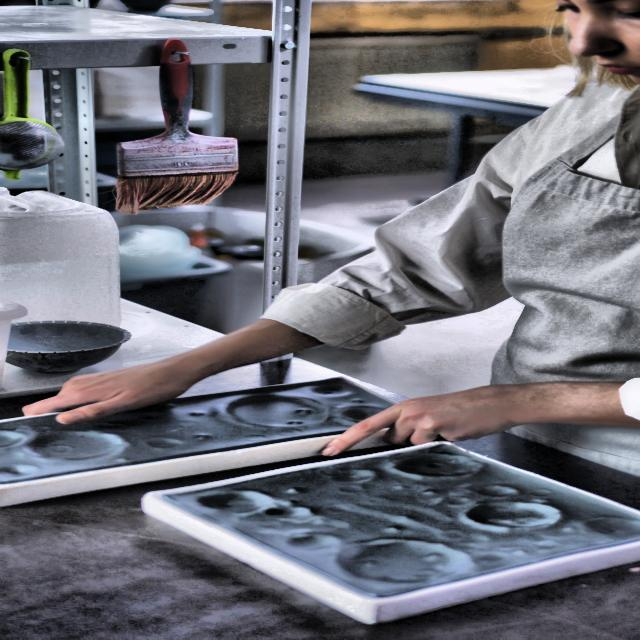not-gloved: (332, 366, 515, 460), (24, 347, 219, 435)
